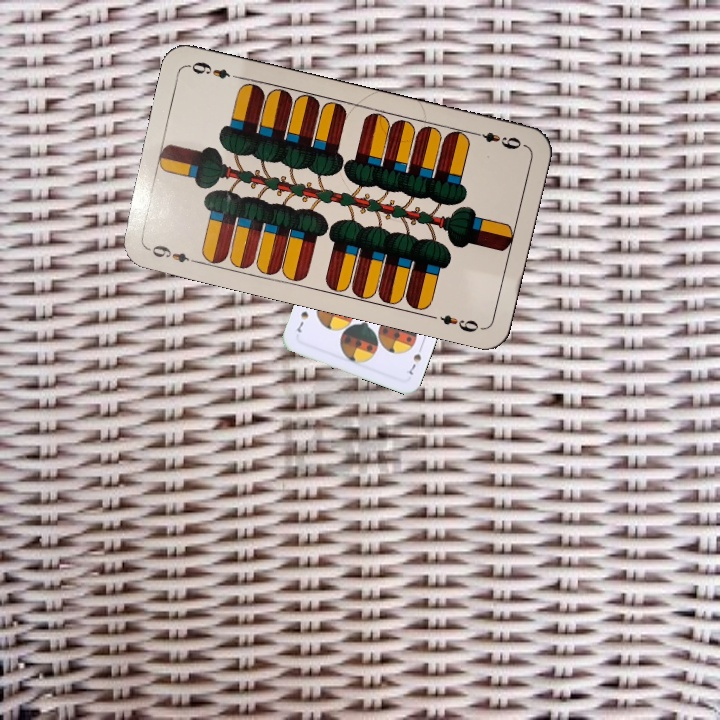E9: (468, 127, 527, 152), (143, 241, 201, 266)
S7: (405, 340, 426, 377)
